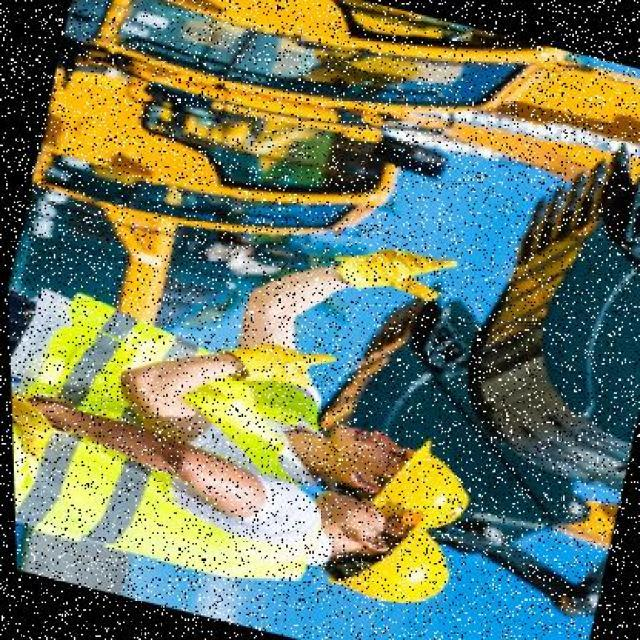helmet: (313, 494, 459, 618), (363, 428, 475, 540)
vest: (9, 414, 345, 603), (37, 303, 355, 485)
